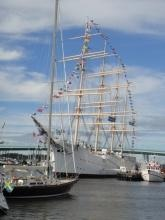fanchuan: (54, 12, 146, 174), (5, 4, 74, 198)
